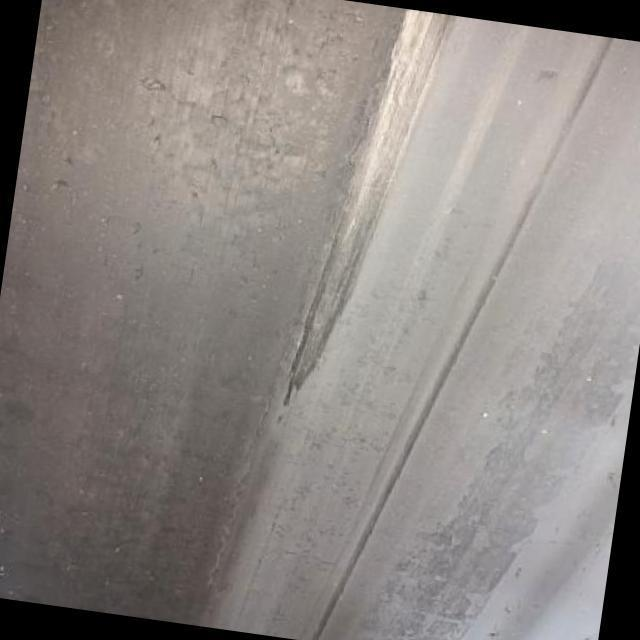Wear: (280, 0, 453, 414)
